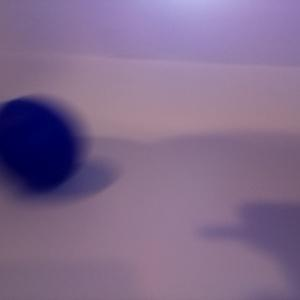dead_ball: (1, 96, 83, 191)
